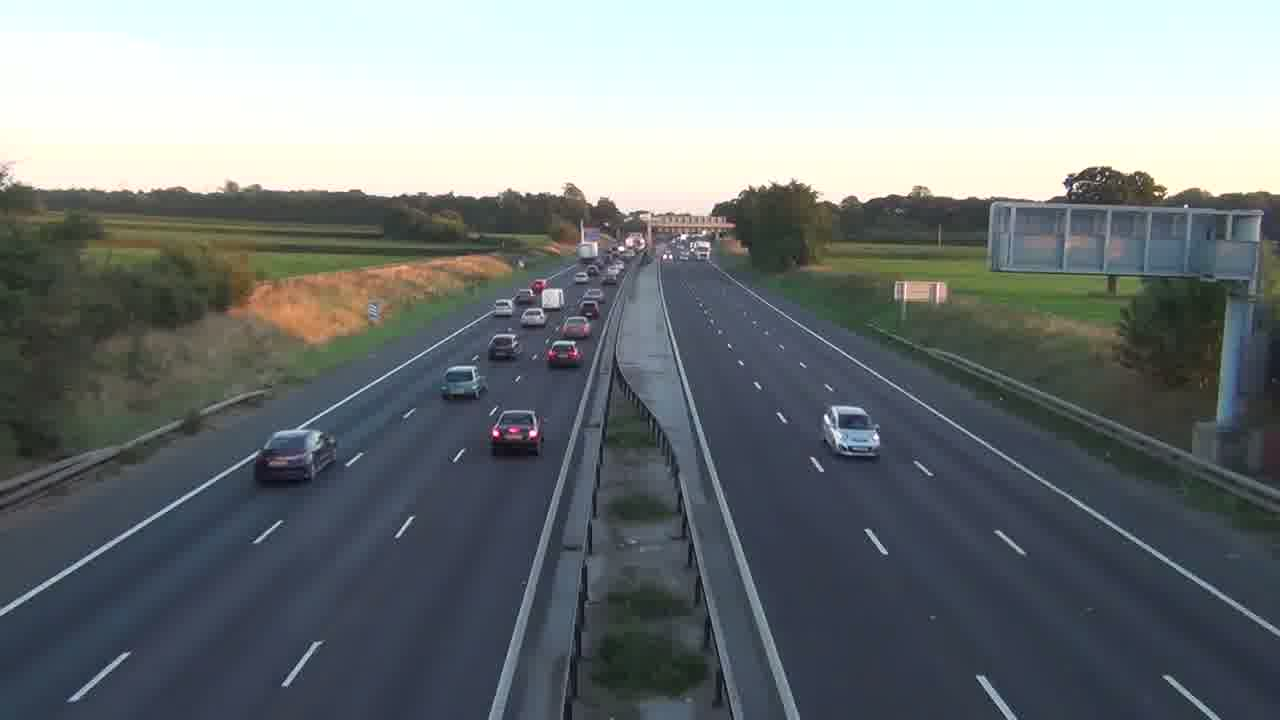car: (253, 428, 338, 484), (820, 404, 882, 459), (489, 409, 545, 456), (440, 365, 485, 399), (547, 340, 584, 369), (488, 332, 519, 361)
